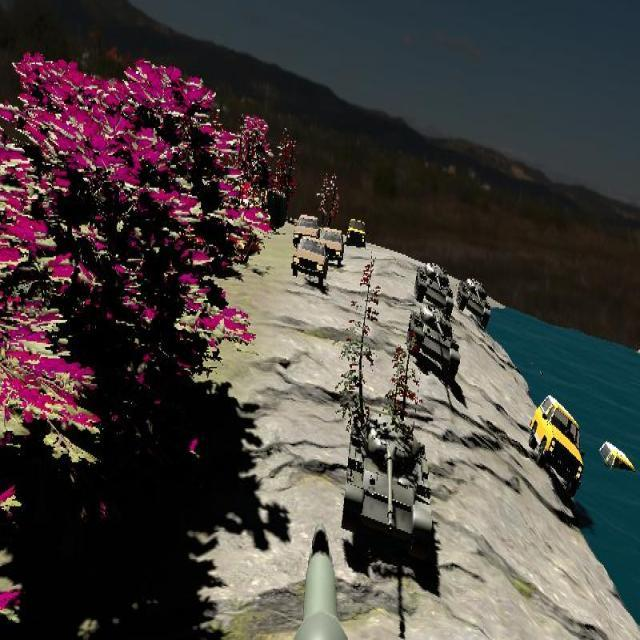Tank: (342, 416, 433, 558), (408, 305, 460, 381), (415, 260, 453, 322), (457, 275, 491, 329)
car: (529, 394, 582, 476), (291, 234, 328, 283), (292, 213, 320, 250), (319, 228, 344, 267)
